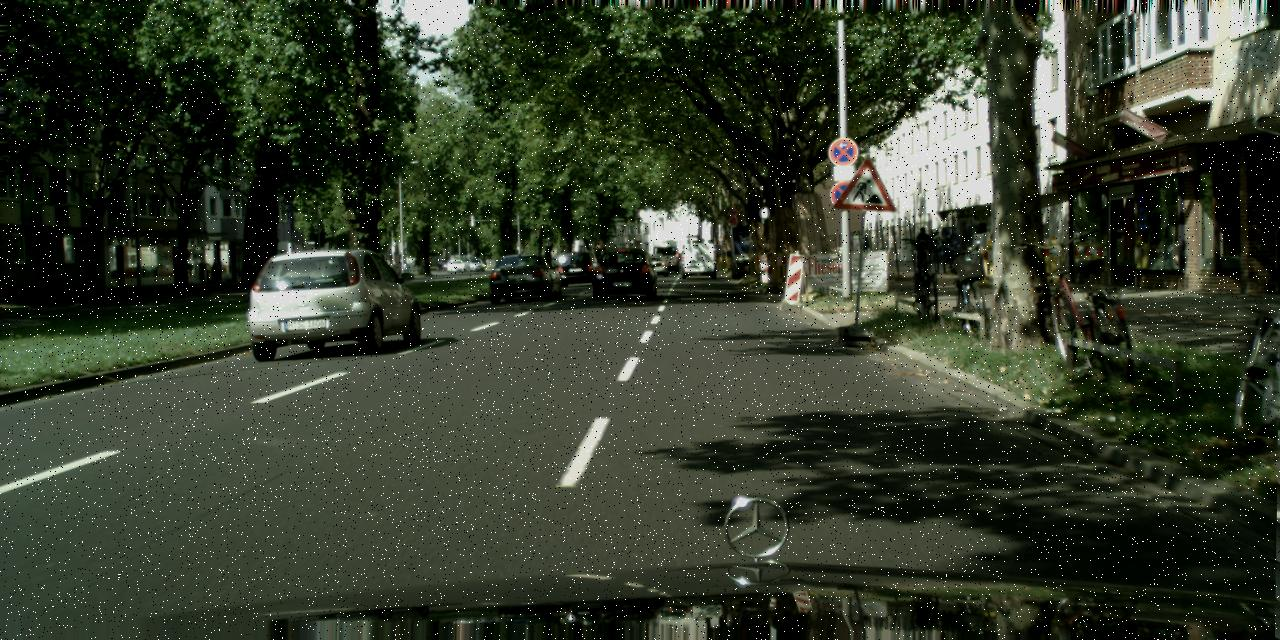ped: (913, 226, 932, 273), (210, 262, 218, 282)
